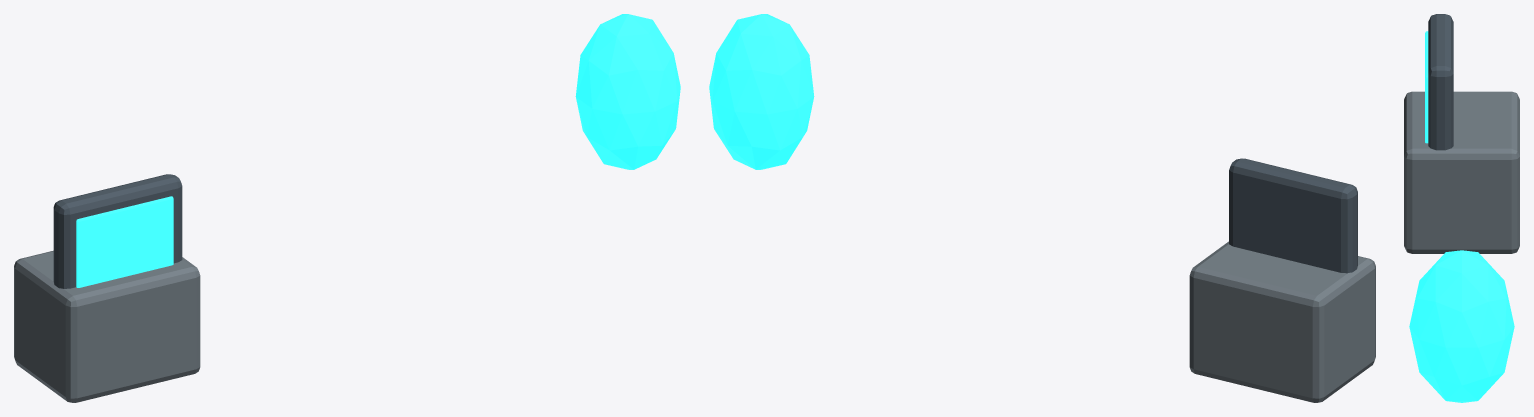
File: Archive-Terminal.glb
3 views of the same model, side by side, from view 1: azimuth 30°, elevation 25°; view 2: azimuth 150°, elevation 25°; view 3: azimuth 270°, elevation 25° (orthographic).
Visible parts, largest first — view 1: Archive_Terminal_Base, Archive_Hologram, Archive_Terminal_Glow, Archive_Terminal_Screen; view 2: Archive_Terminal_Base, Archive_Hologram, Archive_Terminal_Screen; view 3: Archive_Terminal_Base, Archive_Hologram, Archive_Terminal_Screen, Archive_Terminal_Glow.
Boxes of the visible parts, x1,y1,x2,y2 form: Archive_Terminal_Base: [14, 250, 200, 402]; Archive_Hologram: [575, 14, 680, 169]; Archive_Terminal_Glow: [76, 196, 173, 287]; Archive_Terminal_Screen: [53, 174, 182, 288]; Archive_Terminal_Base: [1189, 241, 1375, 402]; Archive_Hologram: [709, 14, 814, 169]; Archive_Terminal_Screen: [1229, 158, 1357, 273]; Archive_Terminal_Base: [1404, 91, 1519, 253]; Archive_Hologram: [1409, 250, 1514, 402]; Archive_Terminal_Screen: [1428, 14, 1453, 150]; Archive_Terminal_Glow: [1425, 31, 1428, 143].
Bounding box in the file's own units: 6.8 × 2.35 × 1.1.
